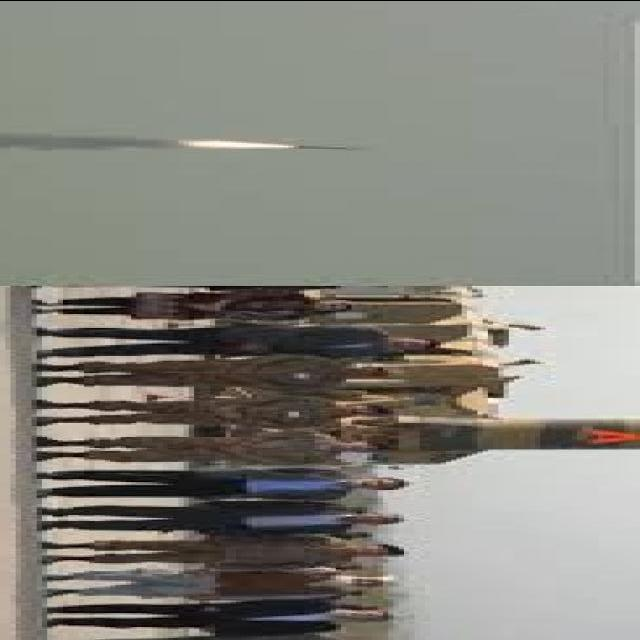Missile: (290, 142, 356, 150)
